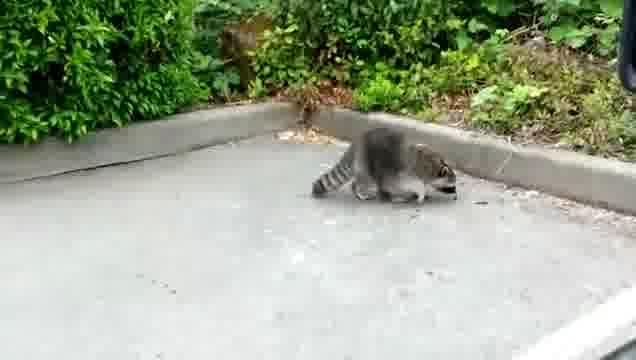raccoon: (310, 127, 465, 213)
